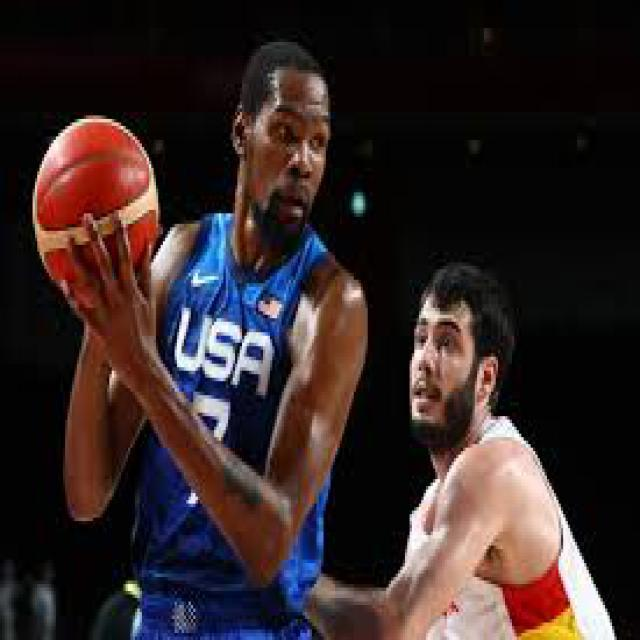basketball: (34, 115, 158, 294)
